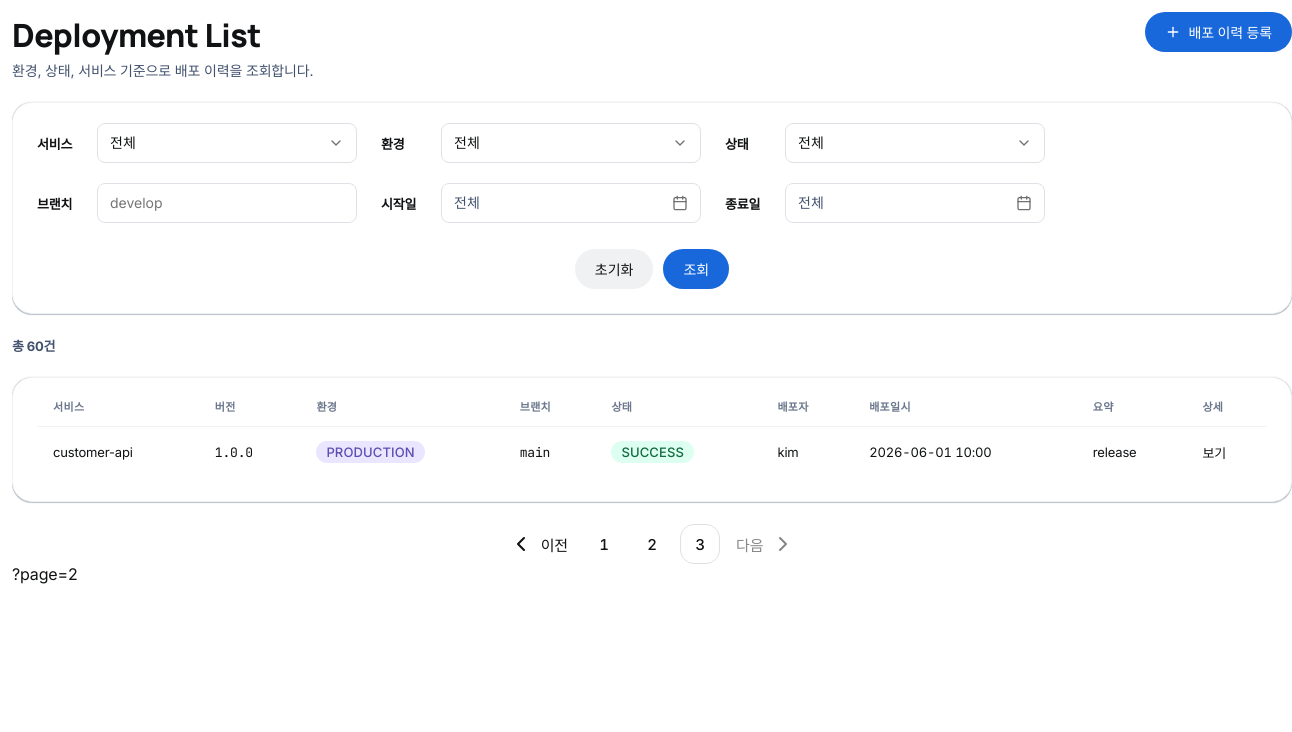
Test: DeploymentList URL query state › commits the input filter to the URL on 조회 and resets page
This screenshot has width=1292, height=732.
Type "release" into the field with placeholder "develop" at [227, 203], box top-left (97, 183), bottom-right (357, 223)
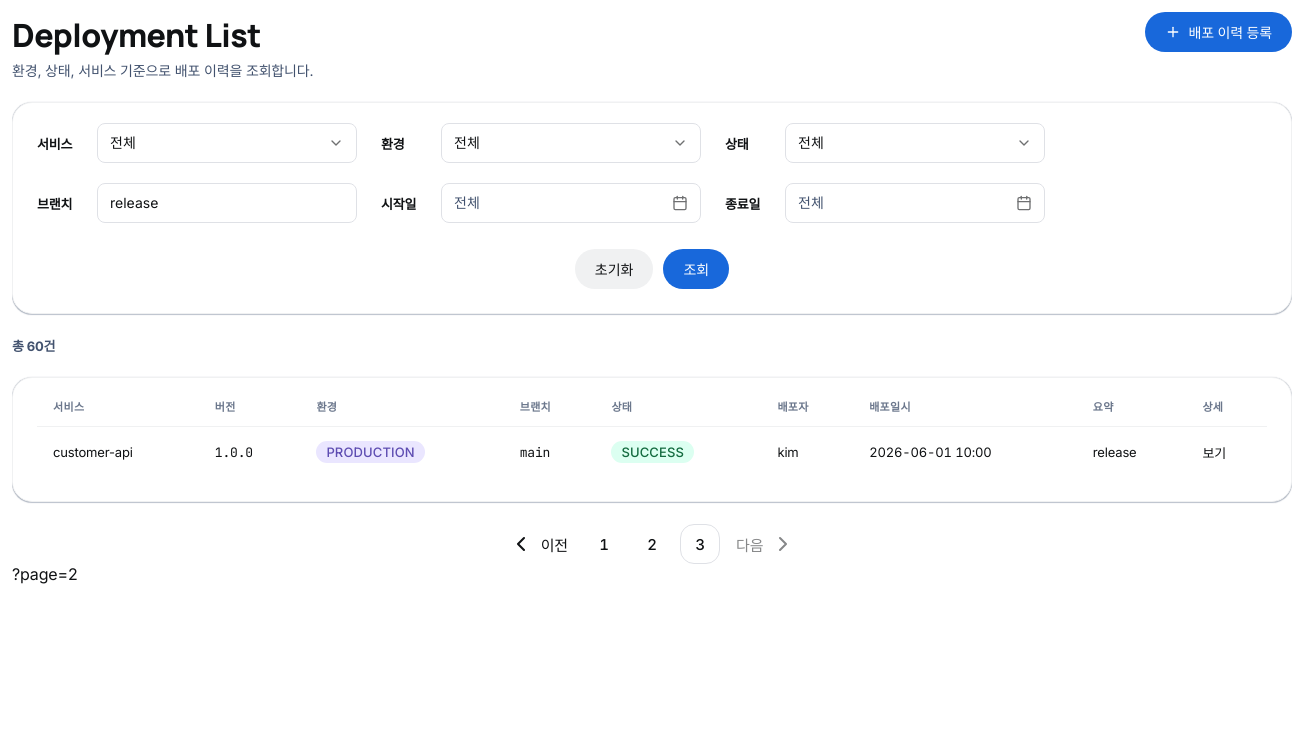
Click the button "조회" at [696, 269], box top-left (663, 249), bottom-right (729, 289)
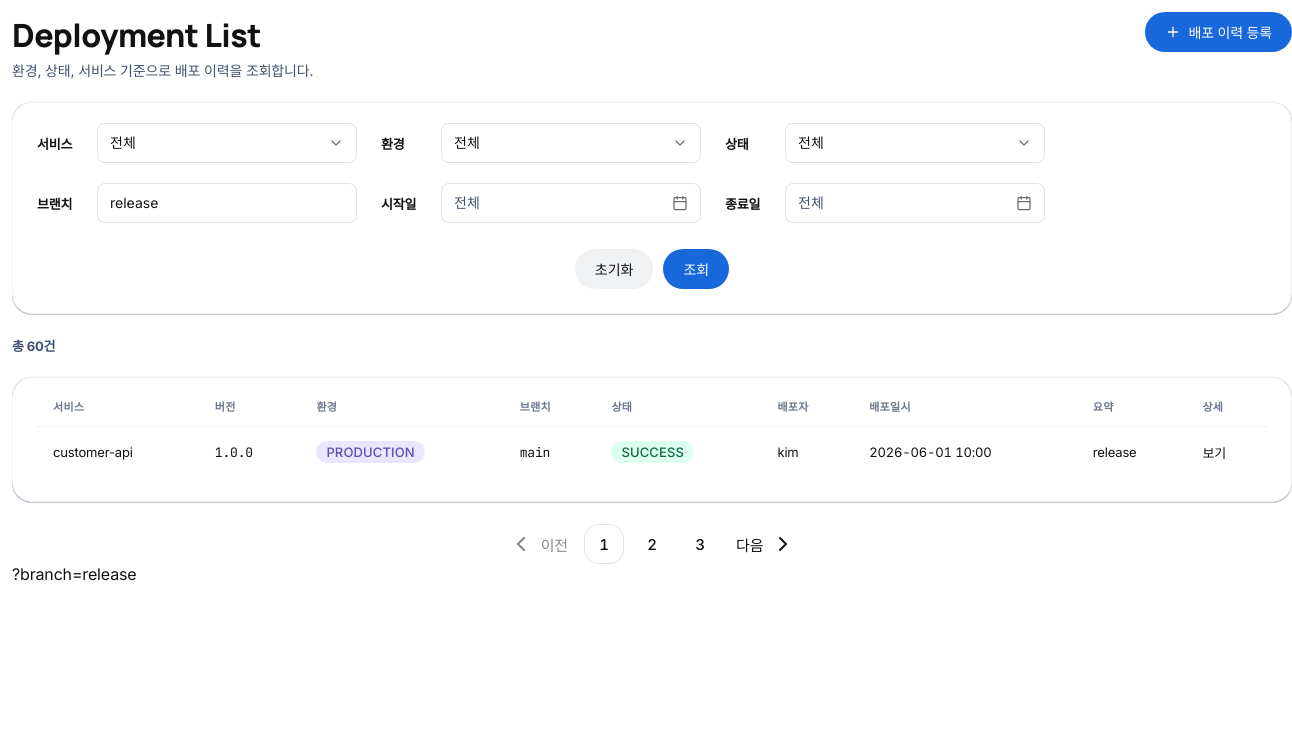
expect the text with test id "search" reads "?branch=release": met, box top-left (12, 564), bottom-right (136, 584)
